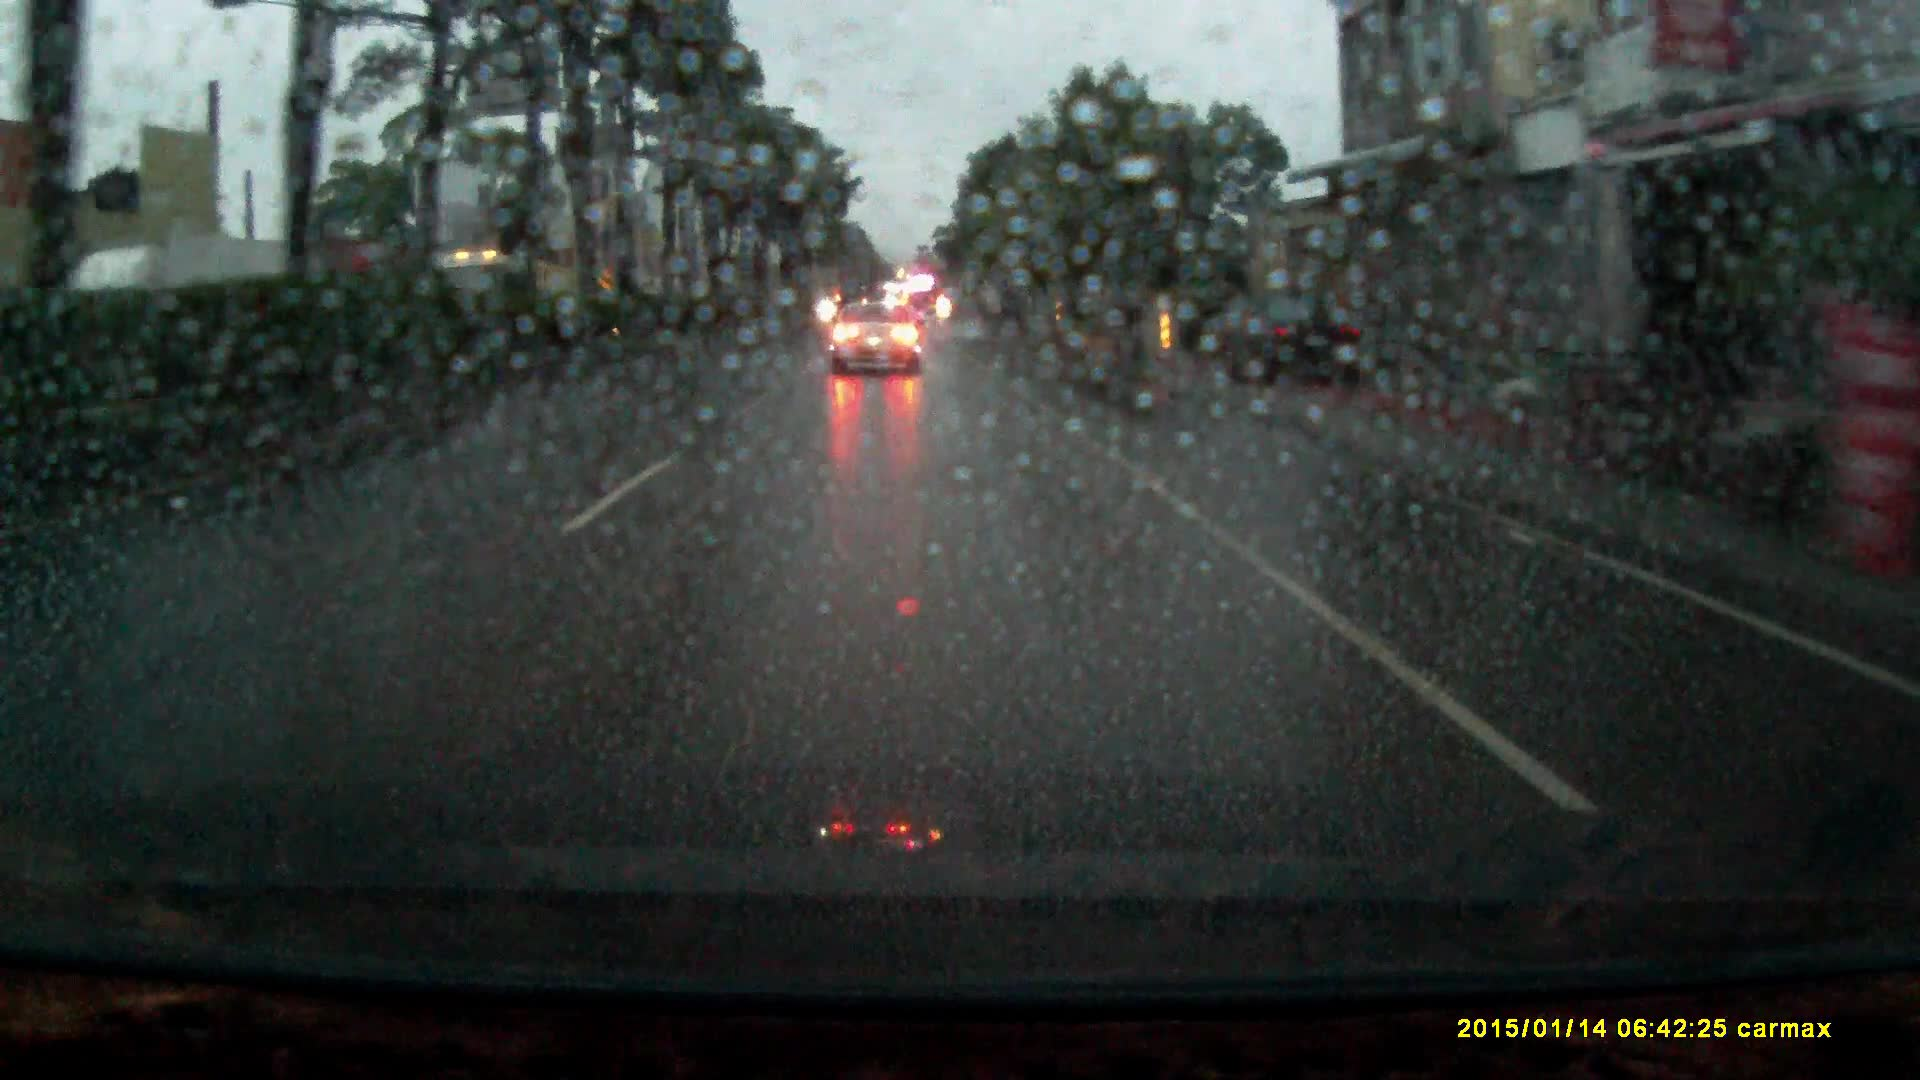vehicle: (63, 235, 270, 382), (414, 241, 584, 328), (1229, 298, 1364, 382), (828, 301, 924, 375)
